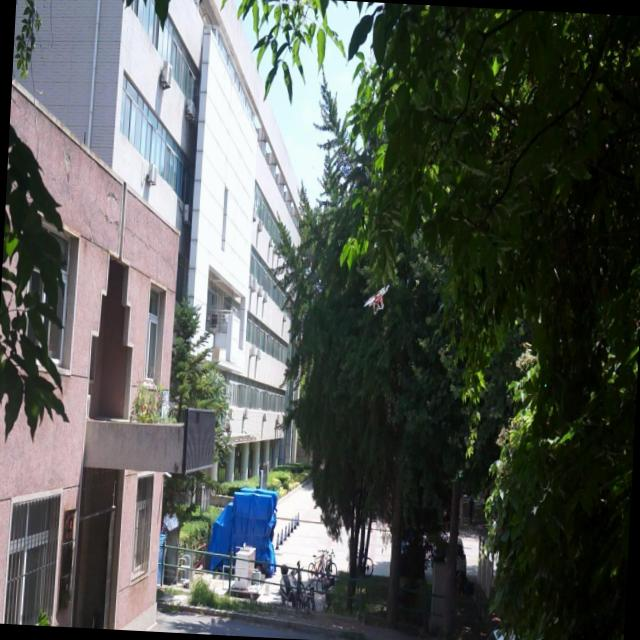drone: (362, 278, 393, 320)
